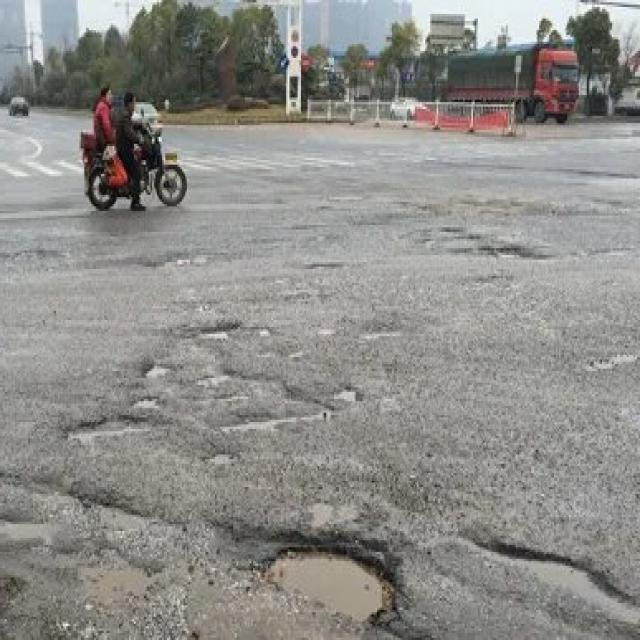pothole: (63, 360, 364, 453), (438, 515, 640, 629), (257, 536, 414, 622), (442, 227, 543, 276), (185, 311, 240, 346)
